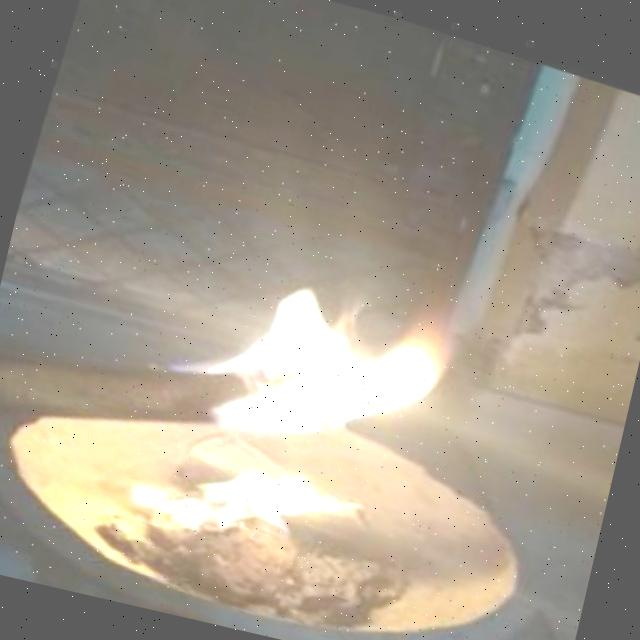fire: (167, 253, 462, 494), (115, 423, 377, 589)
